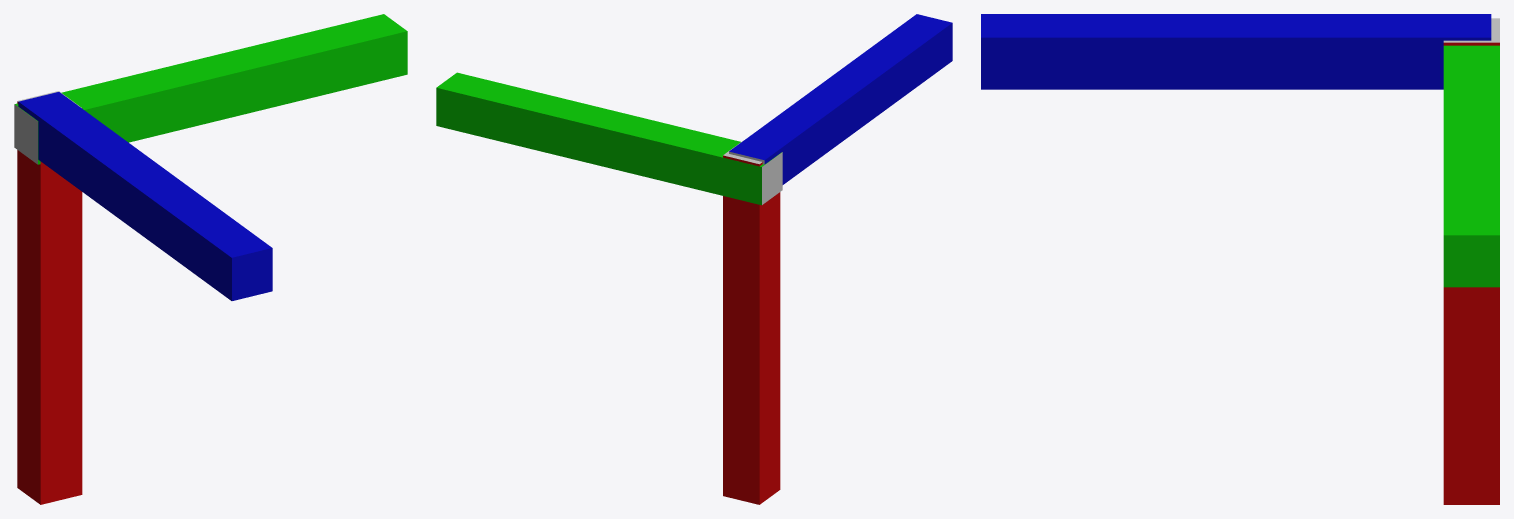
Rendered from guizmos.obj.
3 renders of one model, left to right at view 1: azimuth 30°, elevation 25°; view 2: azimuth 150°, elevation 25°; view 3: azimuth 270°, elevation 25°, orthographic. The views are drawn at different scales.
Visible parts, largest first — view 1: guizmos; view 2: guizmos; view 3: guizmos.
Boxes of the visible parts, x1,y1,x2,y2 form: guizmos: [14, 14, 407, 504]; guizmos: [436, 14, 952, 504]; guizmos: [981, 14, 1499, 504].
Bounding box in the file's own units: 2.36 × 2.38 × 2.4.
